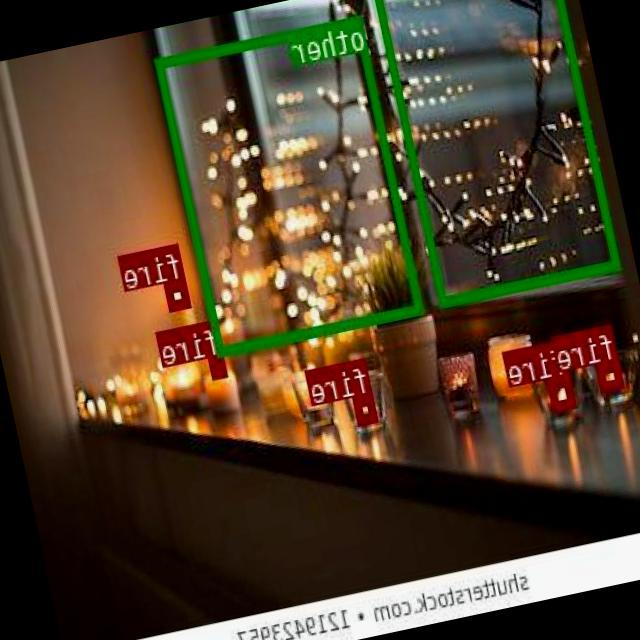fire: (548, 373, 578, 410), (597, 358, 625, 389), (165, 277, 192, 309), (354, 392, 378, 422), (210, 354, 228, 376)
